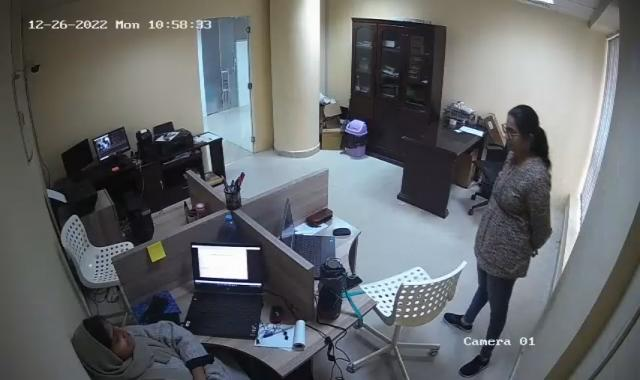no_hairnet: (84, 312, 134, 360), (502, 108, 540, 153)
